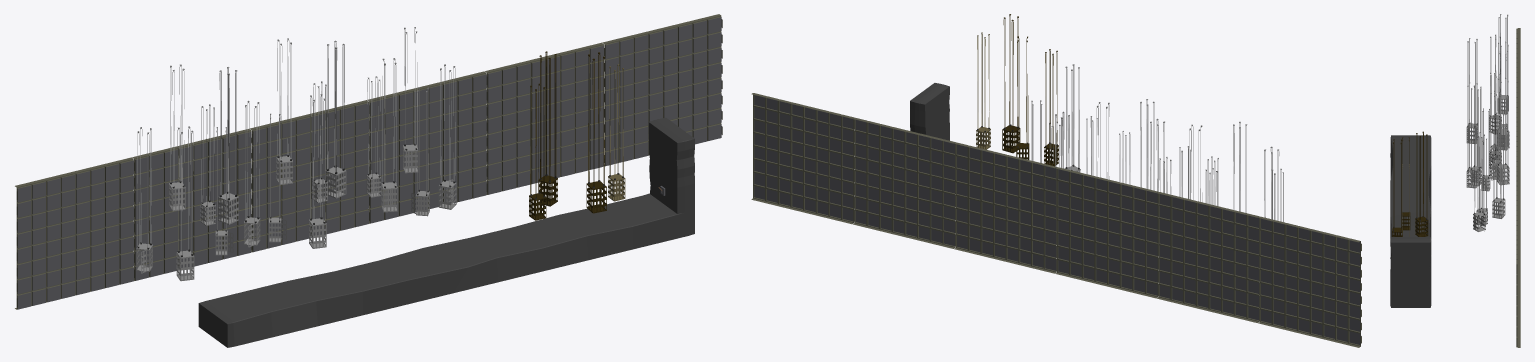
The model's file is clown_mec7.fbx.
The picture shows the model from 3 angles, left to right: view 1: azimuth 30°, elevation 25°; view 2: azimuth 150°, elevation 25°; view 3: azimuth 270°, elevation 25°; orthographic projection. The views are drawn at different scales.
Parts seen in each view (by area): view 1: ระนาบ, Cube, ลูกบาศก์.014, ลูกบาศก์.008, ลูกบาศก์.018, ลูกบาศก์.004, ลูกบาศก์.011, ลูกบาศก์.001, ลูกบาศก์.016, ลูกบาศก์.009, ลูกบาศก์.020, ลูกบาศก์.019 (+11 smaller); view 2: ระนาบ, Cube, ลูกบาศก์.018, ลูกบาศก์.020, ลูกบาศก์.019, ลูกบาศก์.015, ลูกบาศก์.009, ลูกบาศก์.014, ลูกบาศก์.002; view 3: Cube, ระนาบ, ลูกบาศก์.017, ลูกบาศก์.014, ลูกบาศก์.008, ลูกบาศก์.016, ลูกบาศก์.015, ลูกบาศก์.011, ลูกบาศก์.009, ลูกบาศก์.004, ลูกบาศก์.013, ลูกบาศก์.007 (+10 smaller).
Part boxes in pixels (x1,y1,x2,y2): ระนาบ: [15, 14, 722, 309]; Cube: [198, 117, 694, 347]; ลูกบาศก์.014: [538, 51, 557, 206]; ลูกบาศก์.008: [325, 40, 346, 198]; ลูกบาศก์.018: [586, 52, 605, 213]; ลูกบาศก์.004: [176, 126, 194, 281]; ลูกบาศก์.011: [309, 94, 326, 248]; ลูกบาศก์.001: [218, 67, 238, 224]; ลูกบาศก์.016: [438, 64, 456, 209]; ลูกบาศก์.009: [276, 38, 292, 184]; ลูกบาศก์.020: [608, 64, 625, 201]; ลูกบาศก์.019: [529, 83, 546, 220]; ระนาบ: [751, 93, 1361, 347]; Cube: [910, 83, 1259, 255]; ลูกบาศก์.018: [1002, 14, 1020, 153]; ลูกบาศก์.020: [976, 32, 990, 149]; ลูกบาศก์.019: [1044, 49, 1058, 166]; ลูกบาศก์.015: [1065, 64, 1080, 172]; ลูกบาศก์.009: [1140, 99, 1154, 190]; ลูกบาศก์.014: [1016, 36, 1029, 159]; ลูกบาศก์.002: [1233, 121, 1247, 212]; Cube: [1390, 135, 1431, 307]; ระนาบ: [1516, 28, 1520, 347]; ลูกบาศก์.017: [1492, 112, 1505, 218]; ลูกบาศก์.014: [1415, 131, 1428, 236]; ลูกบาศก์.008: [1497, 77, 1509, 185]; ลูกบาศก์.016: [1473, 132, 1485, 231]; ลูกบาศก์.015: [1470, 85, 1481, 186]; ลูกบาศก์.011: [1466, 82, 1477, 188]; ลูกบาศก์.009: [1497, 50, 1508, 150]; ลูกบาศก์.004: [1466, 38, 1477, 143]; ลูกบาศก์.013: [1476, 137, 1487, 226]; ลูกบาศก์.007: [1490, 91, 1500, 180].
Size of the model in its own units: 302 by 87.16 by 70.21.
